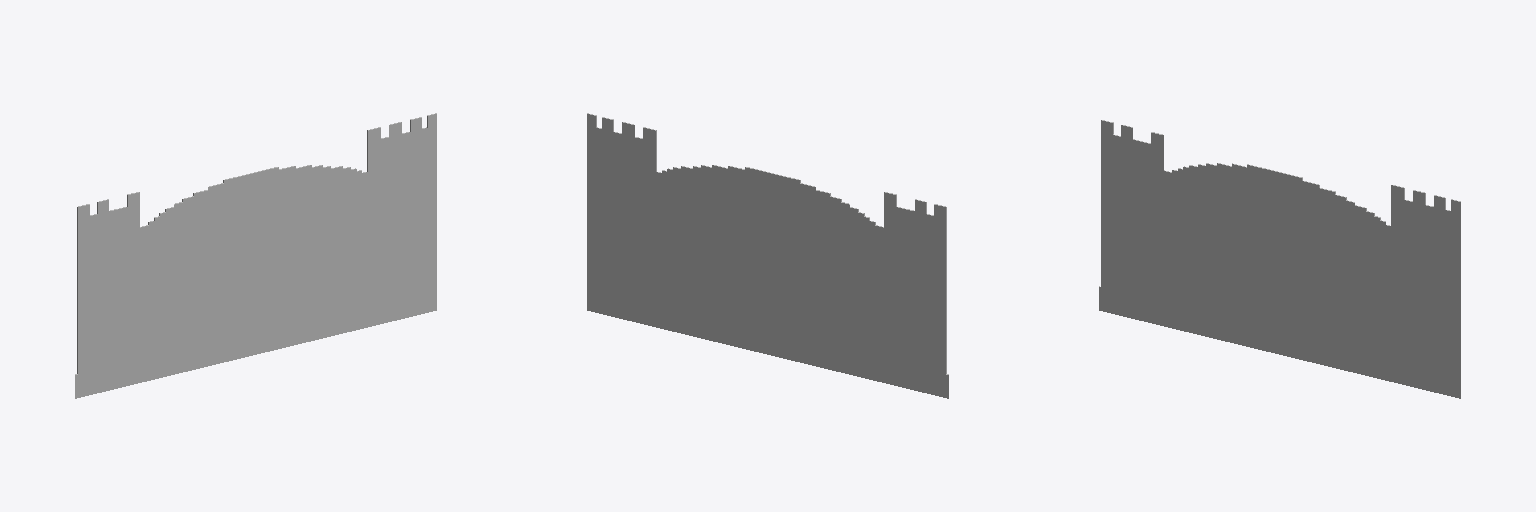
The model's file is btp-bg1.obj.
3 views of the same model, side by side, from view 1: azimuth 30°, elevation 25°; view 2: azimuth 150°, elevation 25°; view 3: azimuth 330°, elevation 25° (orthographic).
Parts seen in each view (by area): view 1: btp-1-rc; view 2: btp-1-rc; view 3: btp-1-rc.
Boxes of the visible parts, box(x1,y1,x2,y2) form: btp-1-rc: box(75, 113, 436, 398); btp-1-rc: box(587, 113, 948, 398); btp-1-rc: box(1099, 120, 1460, 398).
Bounding box in the file's own units: 25.6 × 13.3 × 0.1.